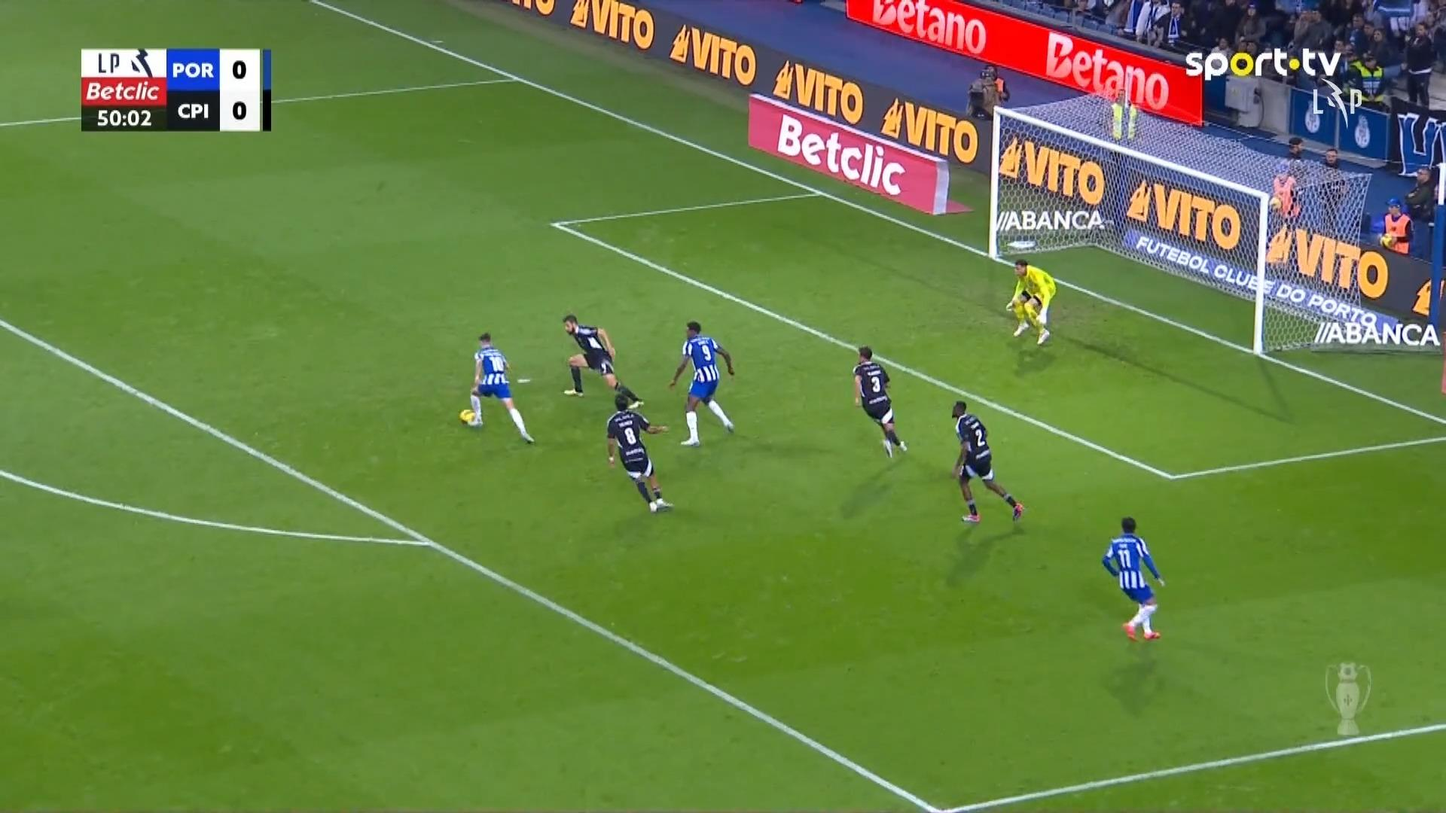ball: (459, 409, 474, 424)
goalkeeper: (1005, 257, 1057, 346)
player: (949, 400, 1025, 523), (667, 320, 736, 446), (605, 391, 674, 513), (1100, 516, 1165, 641), (561, 313, 643, 410), (465, 331, 535, 444), (851, 345, 908, 458)
